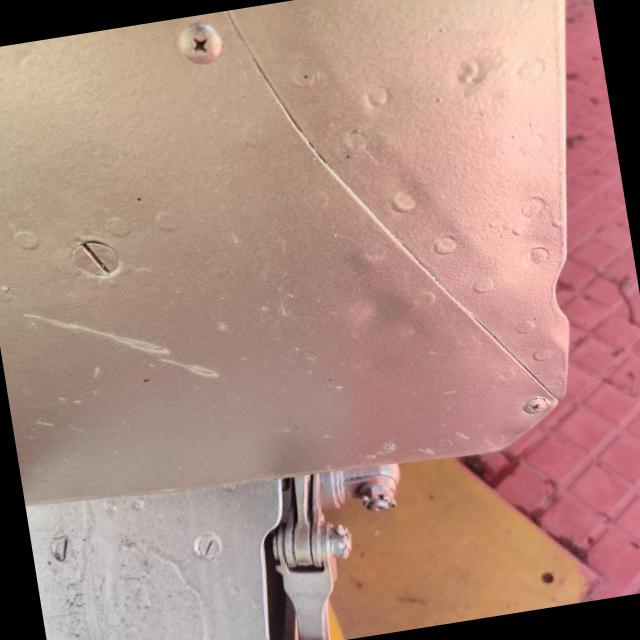Dent: (336, 239, 445, 370)
